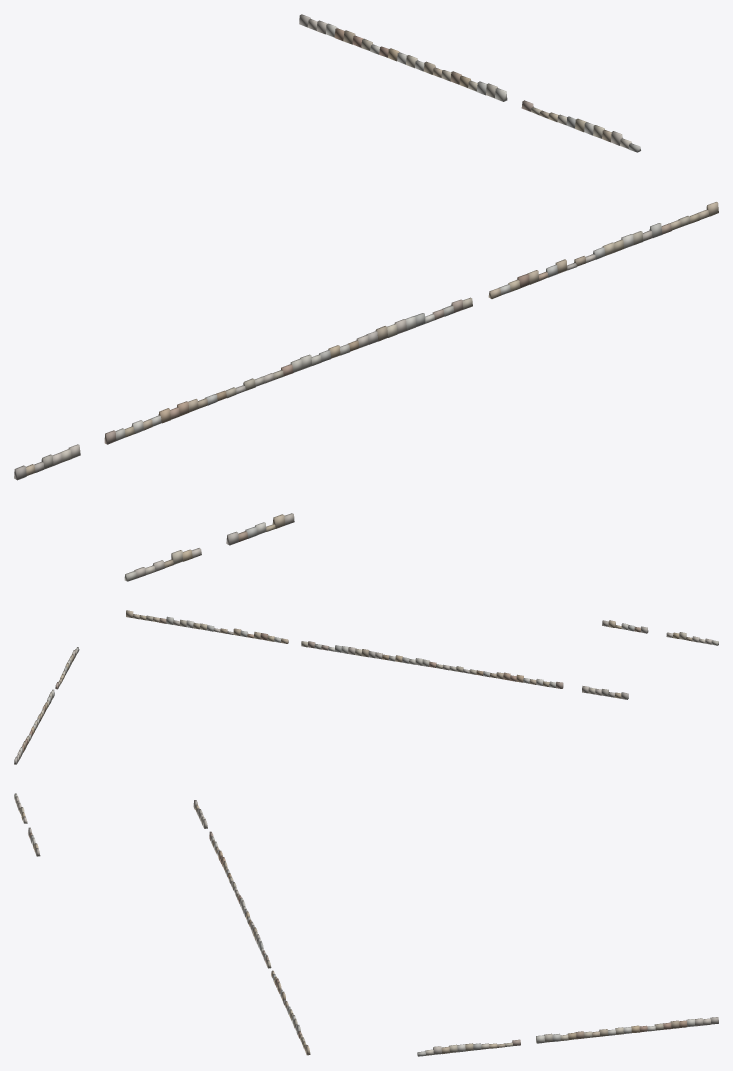
Rendered from farm_21_13_far.glb.
The picture shows the model from 3 angles, top to bottom: view 1: azimuth 30°, elevation 25°; view 2: azimuth 150°, elevation 25°; view 3: azimuth 270°, elevation 25°; orthographic projection. The views are drawn at different scales.
Visible parts, largest first — view 1: geometry_0; view 2: geometry_0; view 3: geometry_0.
Part boxes in pixels (x1,y1,x2,y2): geometry_0: [14, 14, 718, 581]; geometry_0: [14, 610, 718, 764]; geometry_0: [14, 793, 718, 1056].
Bounding box in the file's own units: 121 × 3.43 × 135.
